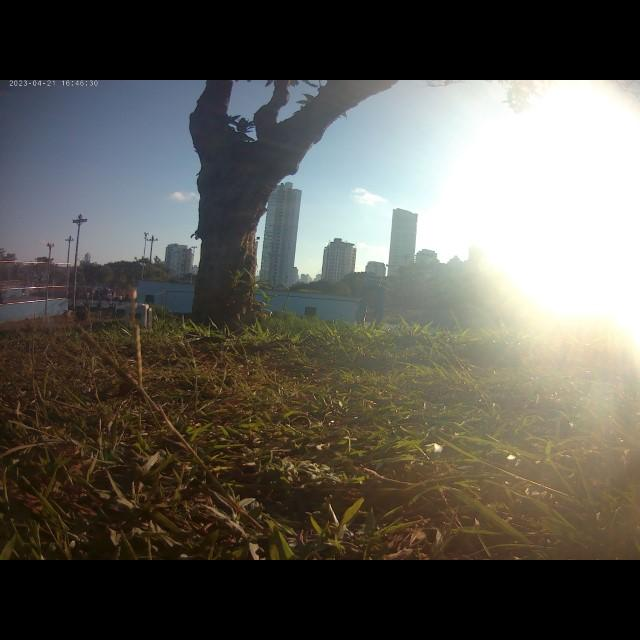arvore: (172, 83, 394, 334)
